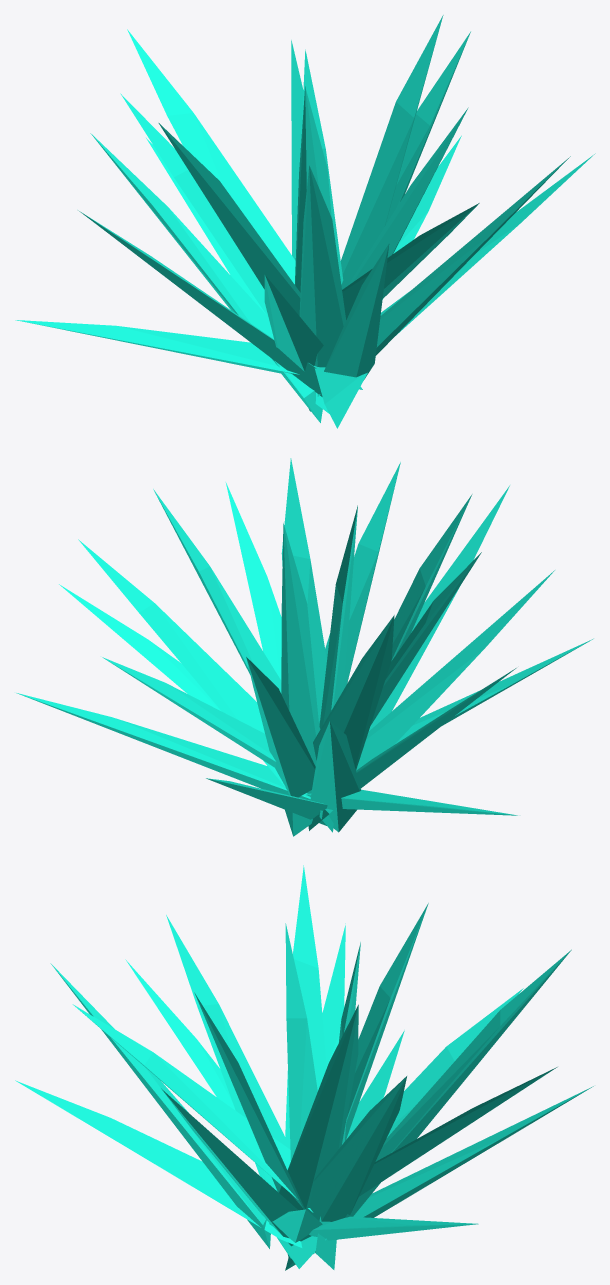
The model's file is Agave_LOD2.fbx.
The picture shows the model from 3 angles, top to bottom: view 1: azimuth 30°, elevation 25°; view 2: azimuth 150°, elevation 25°; view 3: azimuth 270°, elevation 25°; orthographic projection. The views are drawn at different scales.
Parts seen in each view (by area): view 1: Agave_LOD2; view 2: Agave_LOD2; view 3: Agave_LOD2.
Part boxes in pixels (bbox=[...]): Agave_LOD2: bbox=[15, 15, 595, 428]; Agave_LOD2: bbox=[16, 458, 593, 836]; Agave_LOD2: bbox=[15, 865, 593, 1270].
Bounding box in the file's own units: 181 × 115 × 186.
